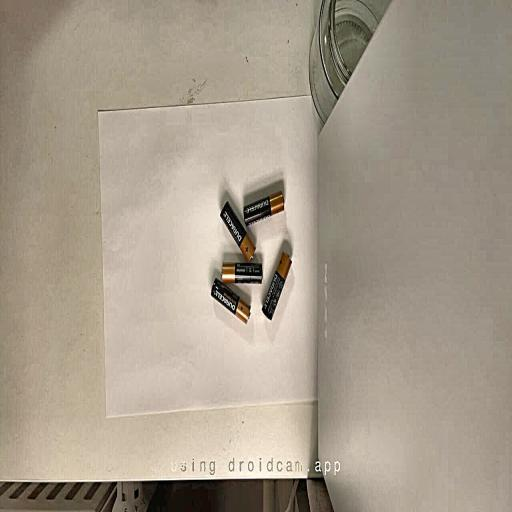DuracellAA: (220, 201, 255, 261), (262, 252, 291, 320), (211, 278, 250, 324), (243, 191, 284, 225), (222, 262, 262, 284)
